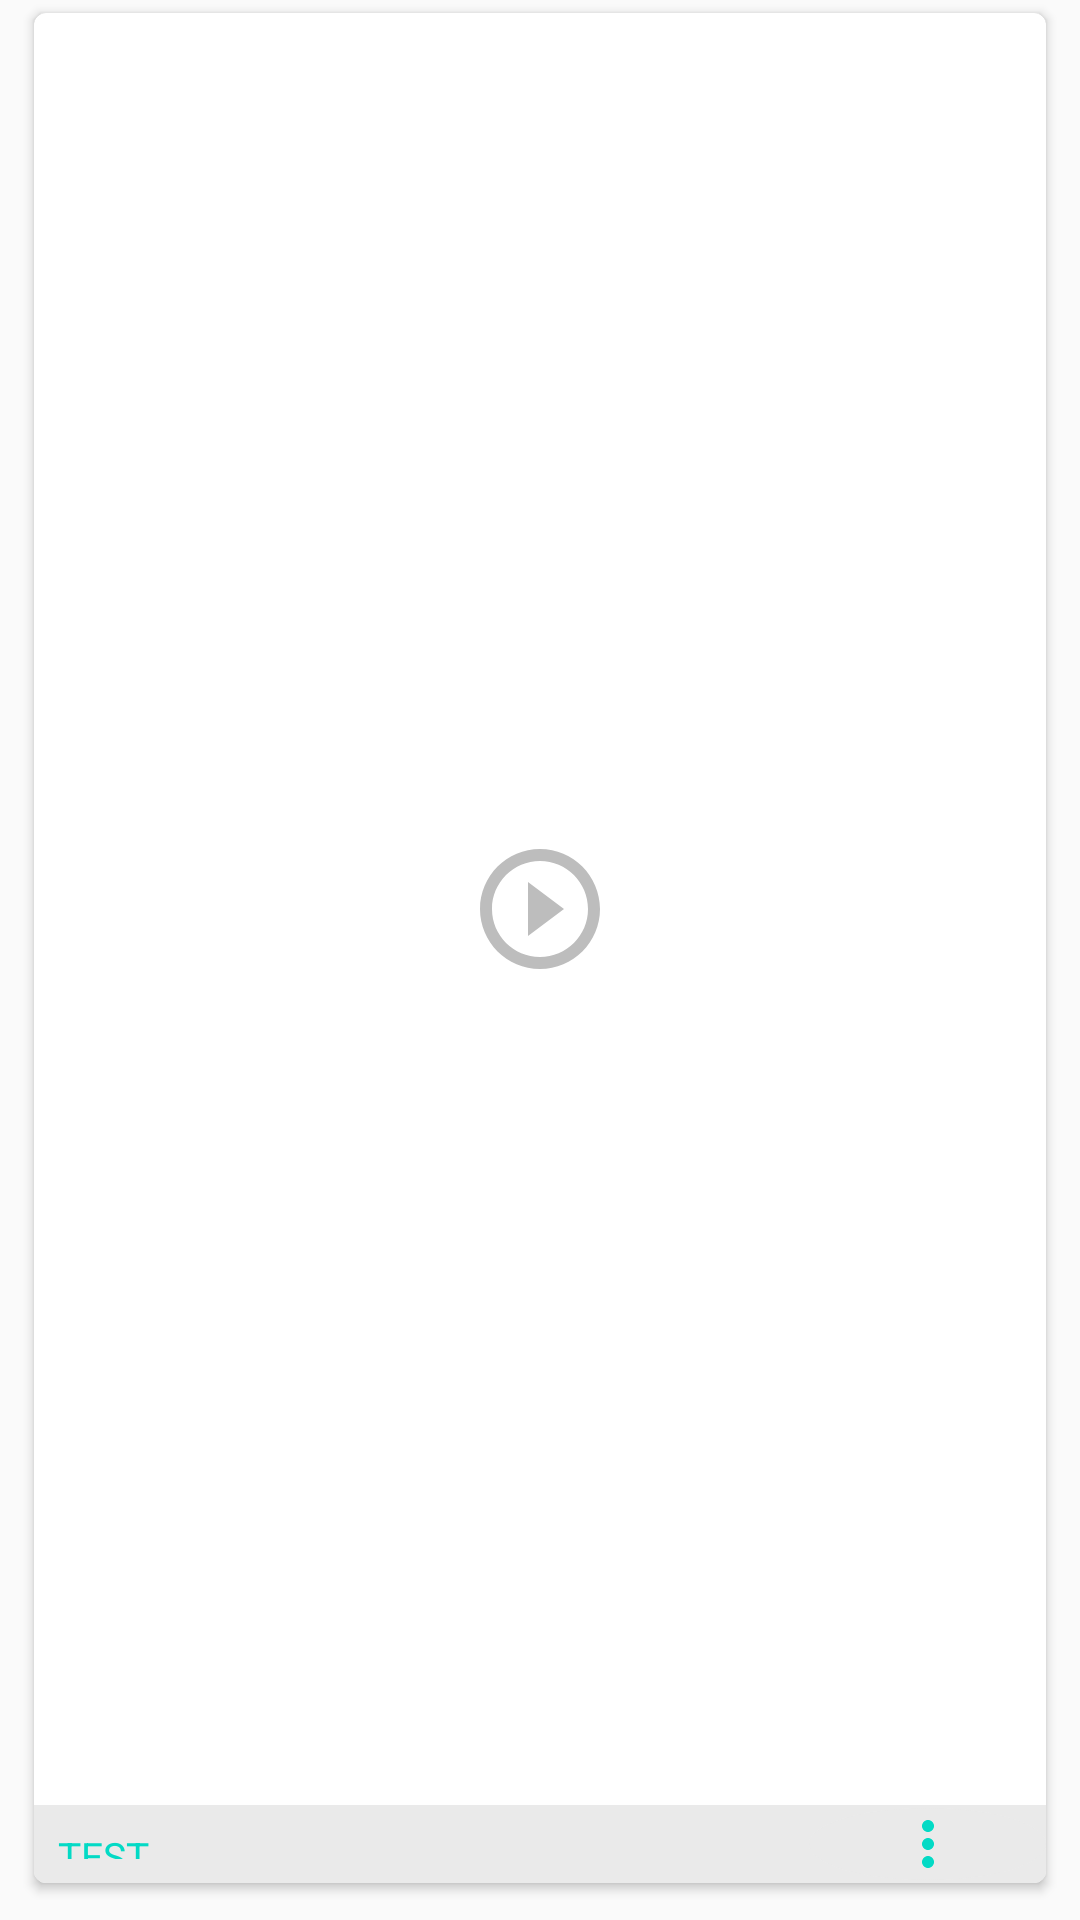

Named icons in this screenshot (1080 × 1920) and their bounding boxes, (x1=x1, y1=y1, x2=x2, y2=y2):
more vert: (x1=922, y1=1820, x2=934, y2=1868)
play circle: (x1=480, y1=849, x2=600, y2=969)
